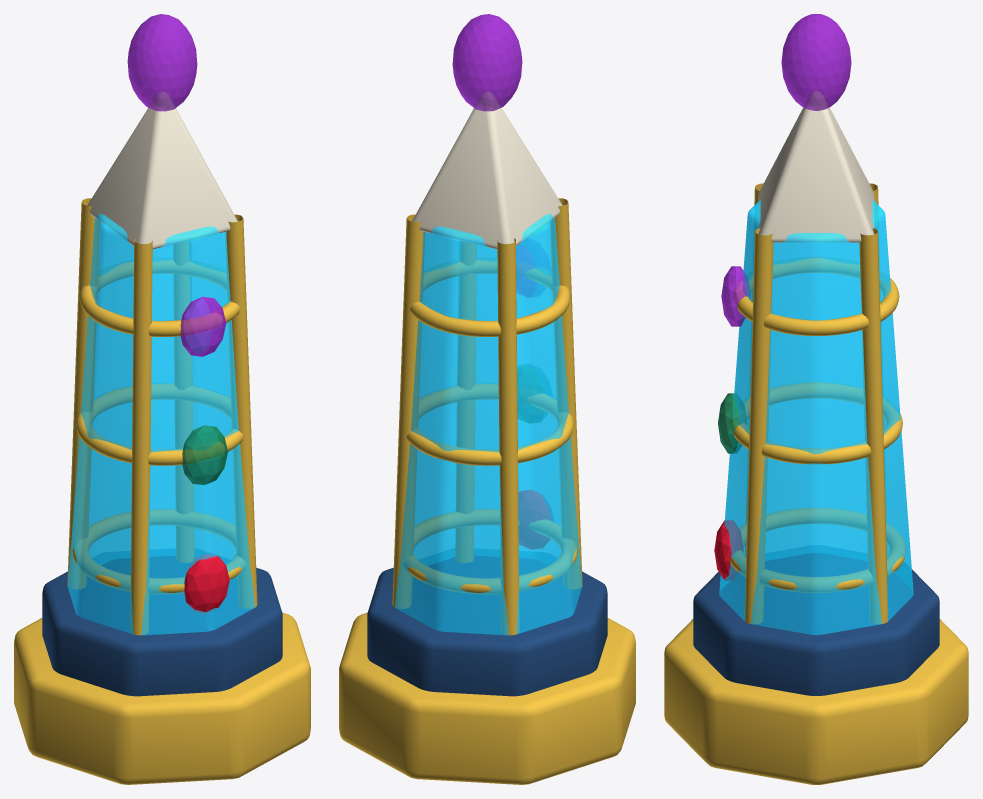
The model's file is obelisk.glb.
The picture shows the model from 3 angles, left to right: view 1: azimuth 30°, elevation 25°; view 2: azimuth 150°, elevation 25°; view 3: azimuth 270°, elevation 25°; orthographic projection.
Parts seen in each view (by area): view 1: treasure-obelisk-faceted-aquamarine-monolith, treasure-obelisk-octagonal-gold-foot, treasure-obelisk-lapis-stepped-base, treasure-obelisk-diamond-pyramidion, treasure-obelisk-gold-corner-armature.002, treasure-obelisk-gold-corner-armature.003, treasure-obelisk-gold-corner-armature.001, treasure-obelisk-crowning-amethyst, treasure-obelisk-gem-set-gold-register.001, treasure-obelisk-gem-set-gold-register, treasure-obelisk-gem-set-gold-register.002, treasure-obelisk-gold-corner-armature (+3 smaller); view 2: treasure-obelisk-faceted-aquamarine-monolith, treasure-obelisk-octagonal-gold-foot, treasure-obelisk-lapis-stepped-base, treasure-obelisk-diamond-pyramidion, treasure-obelisk-gold-corner-armature.001, treasure-obelisk-gold-corner-armature, treasure-obelisk-gold-corner-armature.002, treasure-obelisk-crowning-amethyst, treasure-obelisk-gem-set-gold-register, treasure-obelisk-gold-corner-armature.003, treasure-obelisk-gem-set-gold-register.001, treasure-obelisk-gem-set-gold-register.002 (+3 smaller); view 3: treasure-obelisk-faceted-aquamarine-monolith, treasure-obelisk-octagonal-gold-foot, treasure-obelisk-lapis-stepped-base, treasure-obelisk-diamond-pyramidion, treasure-obelisk-gold-corner-armature, treasure-obelisk-gold-corner-armature.003, treasure-obelisk-crowning-amethyst, treasure-obelisk-gem-set-gold-register, treasure-obelisk-gem-set-gold-register.001, treasure-obelisk-gem-set-gold-register.002, treasure-obelisk-register-jewel.002, treasure-obelisk-register-jewel.001 (+1 smaller).
Part boxes in pixels (x1,y1,x2,y2): treasure-obelisk-faceted-aquamarine-monolith: (67,214,254,635); treasure-obelisk-octagonal-gold-foot: (14,612,310,784); treasure-obelisk-lapis-stepped-base: (42,555,282,696); treasure-obelisk-diamond-pyramidion: (87,91,237,249); treasure-obelisk-gold-corner-armature.002: (130,238,152,635); treasure-obelisk-gold-corner-armature.003: (225,214,257,608); treasure-obelisk-gold-corner-armature.001: (67,198,99,589); treasure-obelisk-crowning-amethyst: (127,14,197,111); treasure-obelisk-gem-set-gold-register.001: (76,384,243,465); treasure-obelisk-gem-set-gold-register: (72,509,246,594); treasure-obelisk-gem-set-gold-register.002: (79,260,240,336); treasure-obelisk-gold-corner-armature: (173,241,194,562); treasure-obelisk-faceted-aquamarine-monolith: (395,214,582,635); treasure-obelisk-octagonal-gold-foot: (339,612,635,784); treasure-obelisk-lapis-stepped-base: (367,555,607,696); treasure-obelisk-diamond-pyramidion: (412,91,562,249); treasure-obelisk-gold-corner-armature.001: (497,238,519,635); treasure-obelisk-gold-corner-armature: (392,214,424,608); treasure-obelisk-gold-corner-armature.002: (550,198,582,589); treasure-obelisk-crowning-amethyst: (452,14,522,111); treasure-obelisk-gem-set-gold-register: (403,509,577,594); treasure-obelisk-gold-corner-armature.003: (455,241,476,562); treasure-obelisk-gem-set-gold-register.001: (406,384,573,465); treasure-obelisk-gem-set-gold-register.002: (409,260,570,336); treasure-obelisk-faceted-aquamarine-monolith: (719,200,913,634); treasure-obelisk-octagonal-gold-foot: (664,619,968,784); treasure-obelisk-lapis-stepped-base: (693,553,939,695); treasure-obelisk-diamond-pyramidion: (758,90,874,242); treasure-obelisk-gold-corner-armature: (859,228,887,623); treasure-obelisk-gold-corner-armature.003: (745,228,773,623); treasure-obelisk-crowning-amethyst: (781,14,851,110); treasure-obelisk-gem-set-gold-register: (730,508,905,592); treasure-obelisk-gem-set-gold-register.001: (730,382,902,464); treasure-obelisk-gem-set-gold-register.002: (734,257,899,336); treasure-obelisk-register-jewel.002: (721,266,750,326); treasure-obelisk-register-jewel.001: (718,393,746,453).
Size of the model in its own units: 0.8249 by 2.12 by 0.8249.
